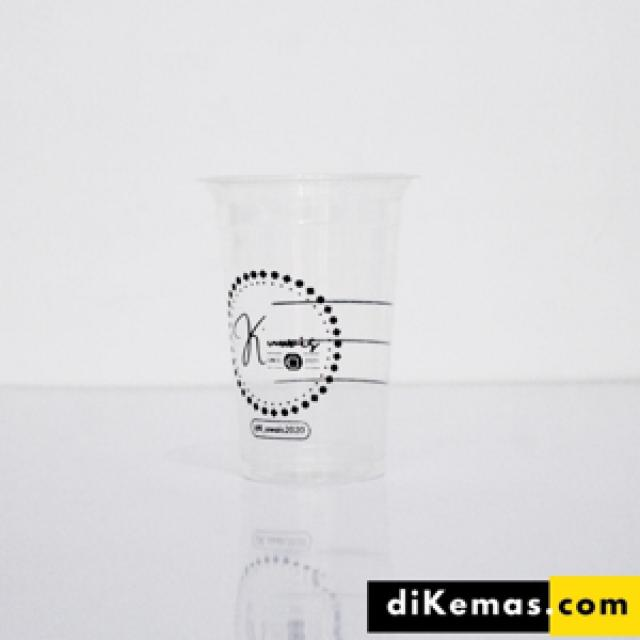plastic cup: (190, 162, 429, 495)
